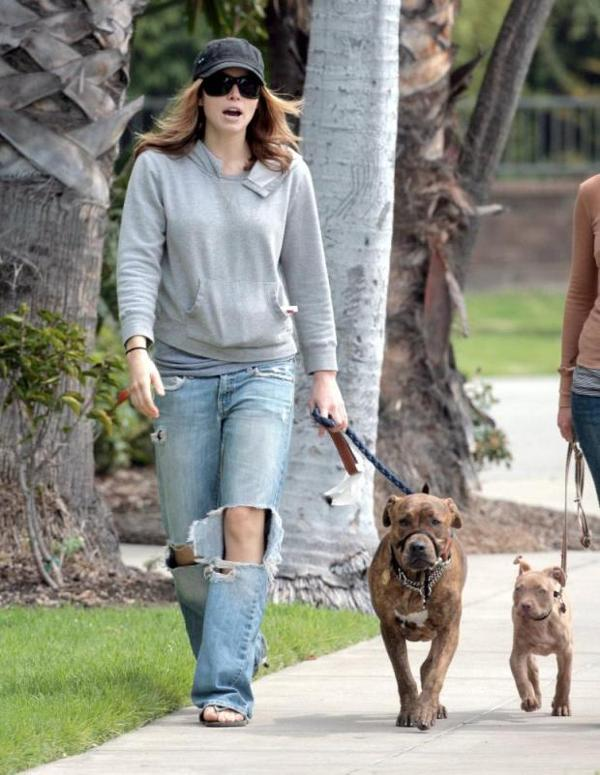person: (119, 33, 349, 729)
